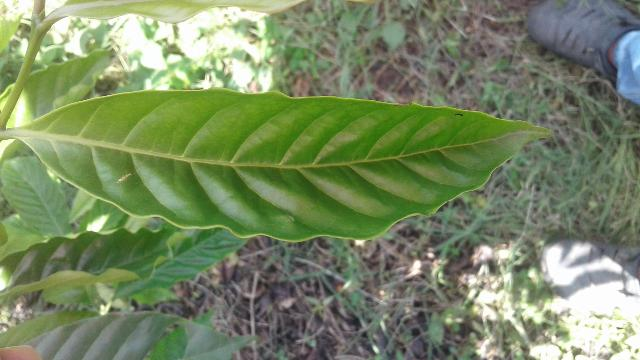healthy: (14, 89, 566, 244)
